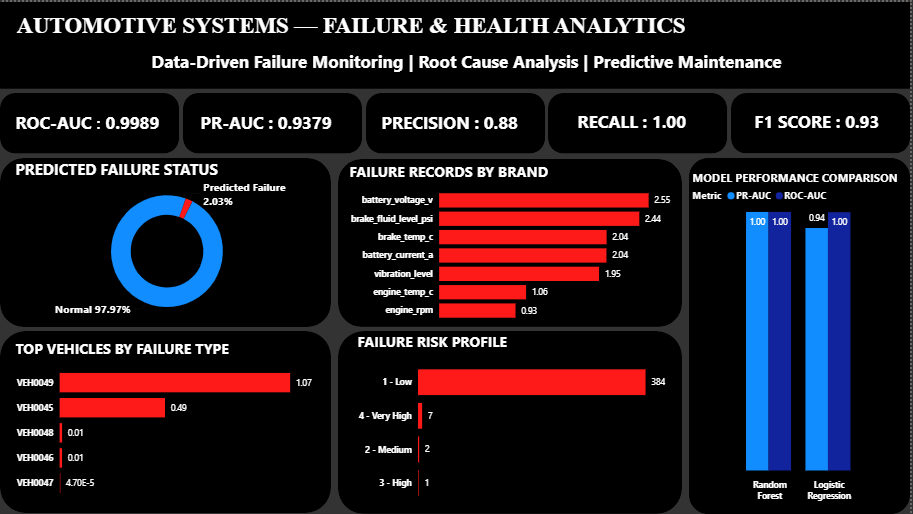

This screenshot's page, from the dashboard's own definition file:
{"tool":"powerbi","page":{"name":"PREDICTIVE MAINTENANCE  ","canvas":[1280,720],"ordinal":2},"visuals":[{"type":"shape","box":[969.1,219.4,310.9,500.7],"z":0},{"type":"shape","box":[0,0,1280,122.4],"z":1000},{"type":"textbox","box":[18,10,1038.1,52],"z":2000},{"type":"textbox","box":[208,62,908.7,49.2],"z":3000},{"type":"shape","box":[0,127.7,252,85],"z":4000},{"type":"shape","box":[0,219.4,465.6,237.7],"z":5000},{"type":"shape","box":[1028,128,252,85],"z":6000},{"type":"shape","box":[257.1,128,252,85],"z":7000},{"type":"shape","box":[514.1,128,252,85],"z":8000},{"type":"shape","box":[771.2,128,252,85],"z":9000},{"type":"shape","box":[0,462.8,465.6,256],"z":10000},{"type":"clusteredColumnChart","title":"MODEL PERFORMANCE COMPARISON","fields":{"Category":["Model Performance Comparison.Model"],"Y":["Sum(Model Performance Comparison.Score)"],"Series":["Model Performance Comparison.Metric"]},"box":[969.1,236.3,310.9,474],"z":11000},{"type":"shape","box":[475.4,220.8,483.9,236.3],"z":12000},{"type":"barChart","title":"FAILURE  RECORDS BY BRAND","fields":{"Category":["Feature Importance.feature"],"Y":["Sum(Feature Importance.absolute_coefficient)"]},"box":[486.7,223.6,482.5,236.3],"z":13000},{"type":"shape","box":[475.4,462.8,483.9,257.4],"z":14000},{"type":"clusteredBarChart","title":"TOP VEHICLES BY  FAILURE TYPE","fields":{"Category":["vehicle_failure_predictions.vehicle_id"],"Y":["Sum(vehicle_failure_predictions.failure_probability)"]},"box":[16.9,472.6,436,237.7],"z":15000},{"type":"donutChart","title":"PREDICTED FAILURE STATUS","fields":{"Category":["vehicle_failure_predictions.Prediction Status"],"Y":["CountNonNull(vehicle_failure_predictions.vehicle_id)"]},"box":[16.9,220.8,436,236.3],"z":16000},{"type":"textbox","box":[17.3,148.4,300.2,46.6],"z":17000},{"type":"textbox","box":[143.2,148.4,94.9,43.1],"z":18000},{"type":"textbox","box":[277.7,148.4,220.8,48.3],"z":19000},{"type":"textbox","box":[531.3,148.4,217.4,48.3],"z":20000},{"type":"textbox","box":[807.3,146.6,177.7,48.3],"z":21000},{"type":"textbox","box":[1055.7,146.6,198.4,48.3],"z":22000},{"type":"clusteredBarChart","title":"FAILURE RISK PROFILE","fields":{"Category":["vehicle_failure_predictions.Risk Category"],"Y":["CountNonNull(vehicle_failure_predictions.vehicle_id)"]},"box":[497.9,462.8,443.1,257.4],"z":23000}]}

Visuals, with their boxes in screenshot pixels (x1, y1, x2, y2), scaled from the page's 1280x720 canvas onto the 913x514 screenshot:
shape: [x1=691, y1=157, x2=912, y2=513]
shape: [x1=0, y1=0, x2=912, y2=87]
textbox: [x1=13, y1=7, x2=753, y2=44]
textbox: [x1=148, y1=44, x2=797, y2=79]
shape: [x1=0, y1=91, x2=180, y2=152]
shape: [x1=0, y1=157, x2=332, y2=326]
shape: [x1=733, y1=91, x2=912, y2=152]
shape: [x1=183, y1=91, x2=363, y2=152]
shape: [x1=367, y1=91, x2=546, y2=152]
shape: [x1=550, y1=91, x2=730, y2=152]
shape: [x1=0, y1=330, x2=332, y2=513]
"MODEL PERFORMANCE COMPARISON" clusteredColumnChart: [x1=691, y1=169, x2=912, y2=507]
shape: [x1=339, y1=158, x2=684, y2=326]
"FAILURE  RECORDS BY BRAND" barChart: [x1=347, y1=160, x2=691, y2=328]
shape: [x1=339, y1=330, x2=684, y2=513]
"TOP VEHICLES BY  FAILURE TYPE" clusteredBarChart: [x1=12, y1=337, x2=323, y2=507]
"PREDICTED FAILURE STATUS" donutChart: [x1=12, y1=158, x2=323, y2=326]
textbox: [x1=12, y1=106, x2=226, y2=139]
textbox: [x1=102, y1=106, x2=170, y2=137]
textbox: [x1=198, y1=106, x2=356, y2=140]
textbox: [x1=379, y1=106, x2=534, y2=140]
textbox: [x1=576, y1=105, x2=703, y2=139]
textbox: [x1=753, y1=105, x2=895, y2=139]
"FAILURE RISK PROFILE" clusteredBarChart: [x1=355, y1=330, x2=671, y2=513]
